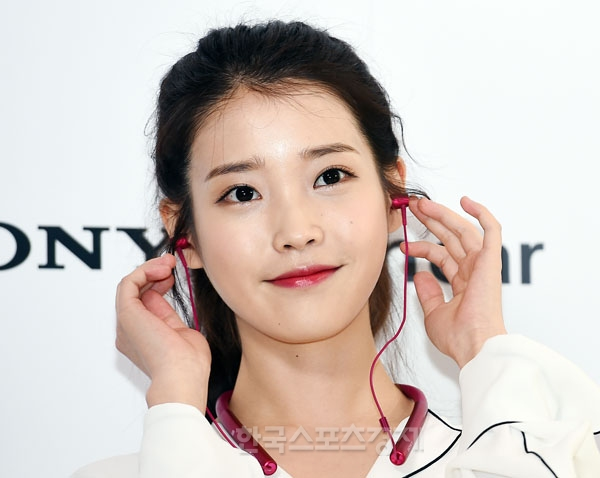earphone: (161, 200, 206, 270), (378, 156, 409, 233)
